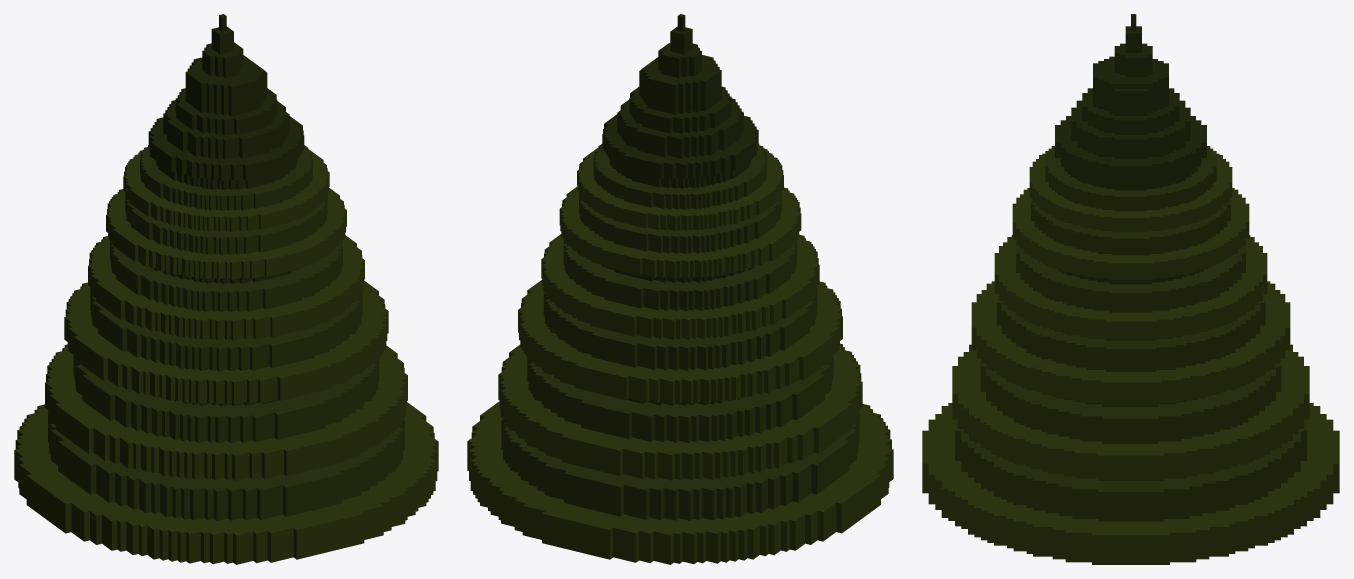
The model's file is darkListva.obj.
The picture shows the model from 3 angles, left to right: view 1: azimuth 30°, elevation 25°; view 2: azimuth 150°, elevation 25°; view 3: azimuth 270°, elevation 25°; orthographic projection.
Visible parts, largest first — view 1: Untitled.007; view 2: Untitled.007; view 3: Untitled.007.
Boxes of the visible parts, box(x1,y1,x2,y2) form: Untitled.007: box(14, 14, 438, 564); Untitled.007: box(467, 14, 893, 564); Untitled.007: box(922, 14, 1339, 564).
Bounding box in the file's own units: 7.7 × 9.37 × 7.7.
7 materials, 7 textured.
